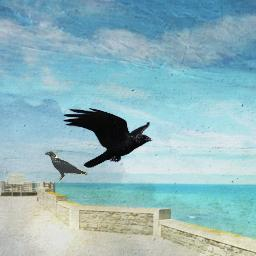Crow: (62, 107, 154, 168), (44, 151, 88, 181)
